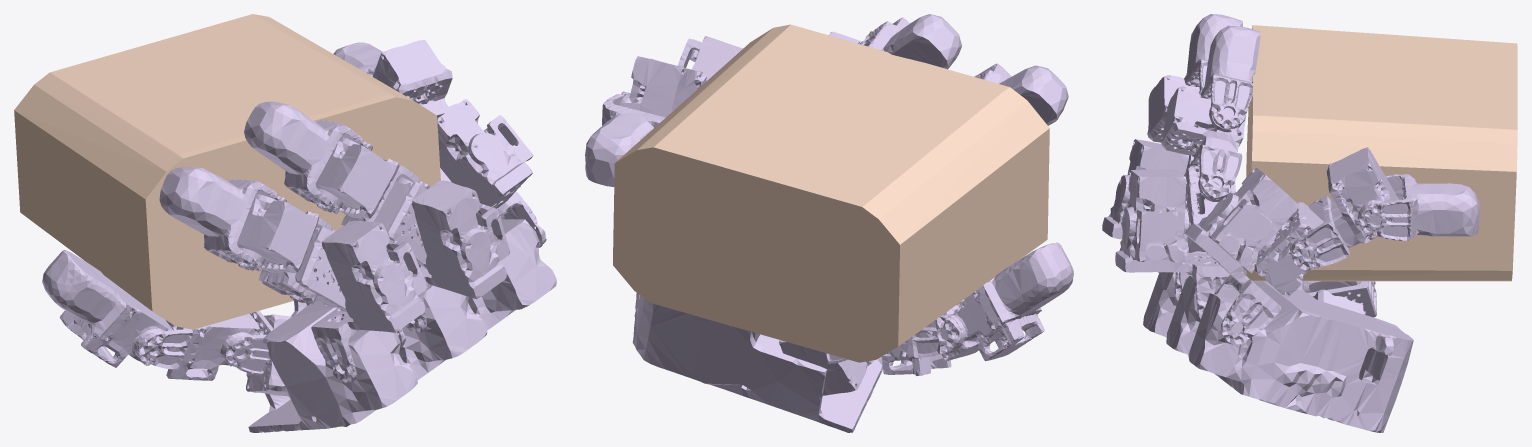
File: 5d1df6769f5bd5-closed.glb
3 views of the same model, side by side, from view 1: azimuth 30°, elevation 25°; view 2: azimuth 150°, elevation 25°; view 3: azimuth 270°, elevation 25° (orthographic). The views are drawn at different scales.
Parts seen in each view (by area): view 1: LEAP_hand, world; view 2: world, LEAP_hand; view 3: LEAP_hand, world.
Boxes of the visible parts, <box> form: LEAP_hand: <box>42,40,556,432</box>; world: <box>14,14,440,329</box>; world: <box>613,24,1049,362</box>; LEAP_hand: <box>585,14,1073,432</box>; LEAP_hand: <box>1102,14,1479,432</box>; world: <box>1246,25,1517,281</box>.
Bounding box in the file's own units: 0.2337 × 0.1851 × 0.1957.
